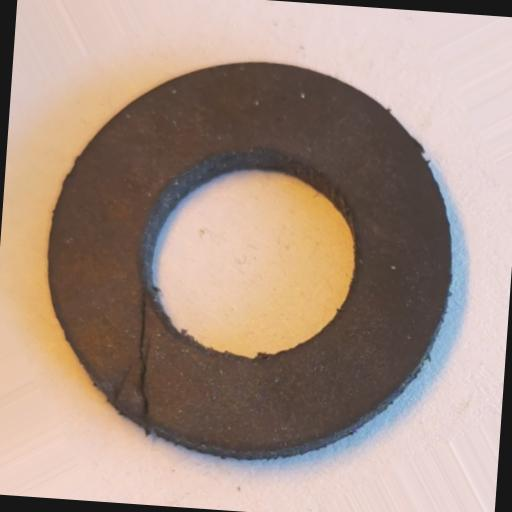defect: (111, 278, 162, 432)
